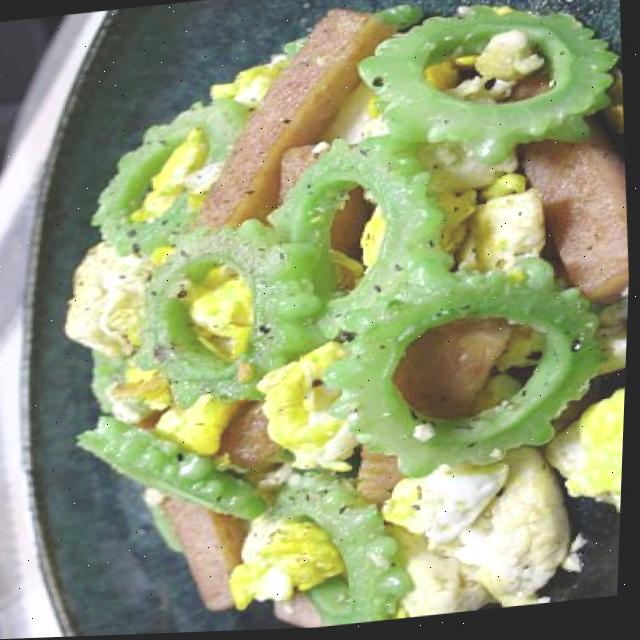熟制海鲜: (5, 0, 640, 639)
